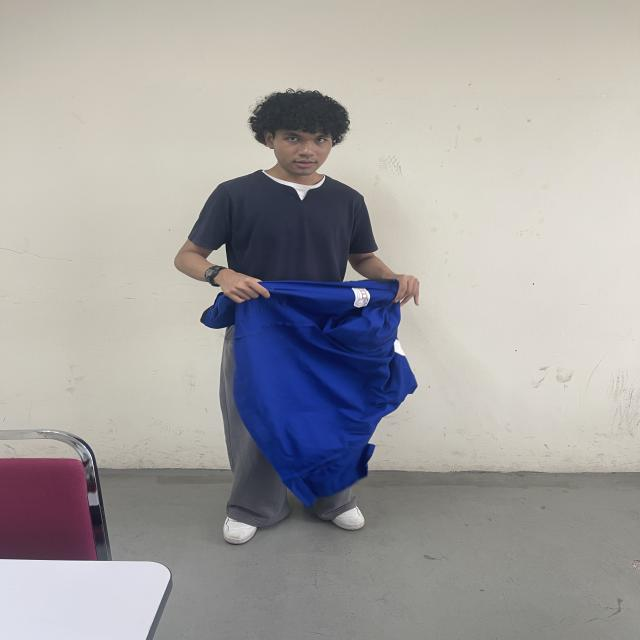person_without_labcoat: (175, 90, 419, 544)
